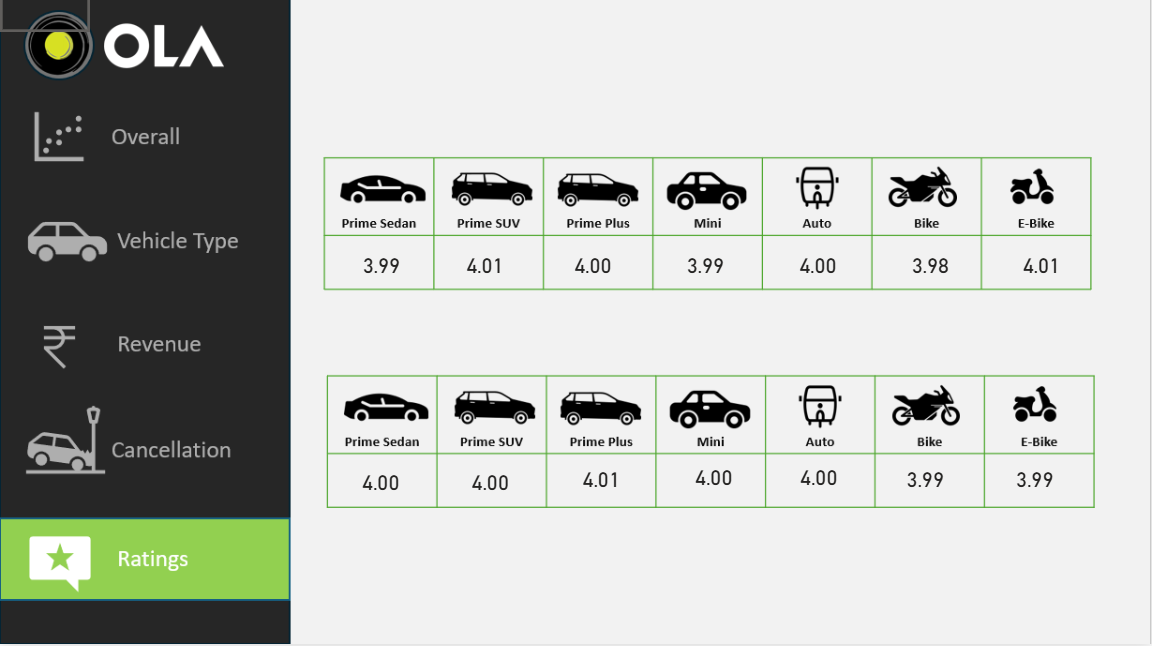

What the dashboard file says about the page in this screenshot:
{"tool":"powerbi","page":{"name":"Ratings","canvas":[1280,720],"ordinal":4},"visuals":[{"type":"actionButton","box":[0,0,100,40],"z":0},{"type":"card","fields":{"Values":["Avg(July.Driver_Ratings)"]},"box":[368,268,110,60],"z":1000},{"type":"card","fields":{"Values":["Avg(July.Customer_Rating)"]},"box":[362,506,122,66],"z":2000},{"type":"card","fields":{"Values":["Avg(July.Driver_Ratings)"]},"box":[484,268,110,60],"z":3000},{"type":"card","fields":{"Values":["Avg(July.Driver_Ratings)"]},"box":[604,268,110,60],"z":4000},{"type":"card","fields":{"Values":["Avg(July.Driver_Ratings)"]},"box":[728,268,110,60],"z":5000},{"type":"card","fields":{"Values":["Avg(July.Driver_Ratings)"]},"box":[854,268,110,60],"z":6000},{"type":"card","fields":{"Values":["Avg(July.Driver_Ratings)"]},"box":[978,268,110,60],"z":7000},{"type":"card","fields":{"Values":["Avg(July.Customer_Rating)"]},"box":[484,506,122,66],"z":8000},{"type":"card","fields":{"Values":["Avg(July.Customer_Rating)"]},"box":[606,504,122,66],"z":9000},{"type":"card","fields":{"Values":["Avg(July.Customer_Rating)"]},"box":[732,502,122,66],"z":10000},{"type":"card","fields":{"Values":["Avg(July.Customer_Rating)"]},"box":[848,502,122,66],"z":11000},{"type":"card","fields":{"Values":["Avg(July.Customer_Rating)"]},"box":[966,504,122,66],"z":12000},{"type":"card","fields":{"Values":["Avg(July.Driver_Ratings)"]},"box":[1102,268,110,60],"z":13000},{"type":"card","fields":{"Values":["Avg(July.Customer_Rating)"]},"box":[1088,504,122,66],"z":14000}]}

Visuals, with their boxes on the page's 1280x720 design canvas (x1, y1, x2, y2). These are canvas units, not pixel positions in the 1152x646 screenshot, which may show the page scaled, cropped or inside an application window:
actionButton: {"x1": 0, "y1": 0, "x2": 100, "y2": 40}
card - Avg(July.Driver_Ratings): {"x1": 368, "y1": 268, "x2": 478, "y2": 328}
card - Avg(July.Customer_Rating): {"x1": 362, "y1": 506, "x2": 484, "y2": 572}
card - Avg(July.Driver_Ratings): {"x1": 484, "y1": 268, "x2": 594, "y2": 328}
card - Avg(July.Driver_Ratings): {"x1": 604, "y1": 268, "x2": 714, "y2": 328}
card - Avg(July.Driver_Ratings): {"x1": 728, "y1": 268, "x2": 838, "y2": 328}
card - Avg(July.Driver_Ratings): {"x1": 854, "y1": 268, "x2": 964, "y2": 328}
card - Avg(July.Driver_Ratings): {"x1": 978, "y1": 268, "x2": 1088, "y2": 328}
card - Avg(July.Customer_Rating): {"x1": 484, "y1": 506, "x2": 606, "y2": 572}
card - Avg(July.Customer_Rating): {"x1": 606, "y1": 504, "x2": 728, "y2": 570}
card - Avg(July.Customer_Rating): {"x1": 732, "y1": 502, "x2": 854, "y2": 568}
card - Avg(July.Customer_Rating): {"x1": 848, "y1": 502, "x2": 970, "y2": 568}
card - Avg(July.Customer_Rating): {"x1": 966, "y1": 504, "x2": 1088, "y2": 570}
card - Avg(July.Driver_Ratings): {"x1": 1102, "y1": 268, "x2": 1212, "y2": 328}
card - Avg(July.Customer_Rating): {"x1": 1088, "y1": 504, "x2": 1210, "y2": 570}
